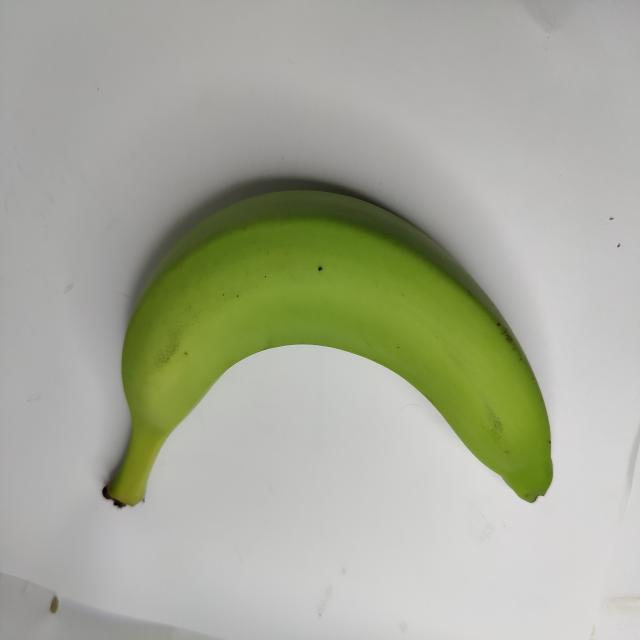raw: (90, 167, 564, 577)
